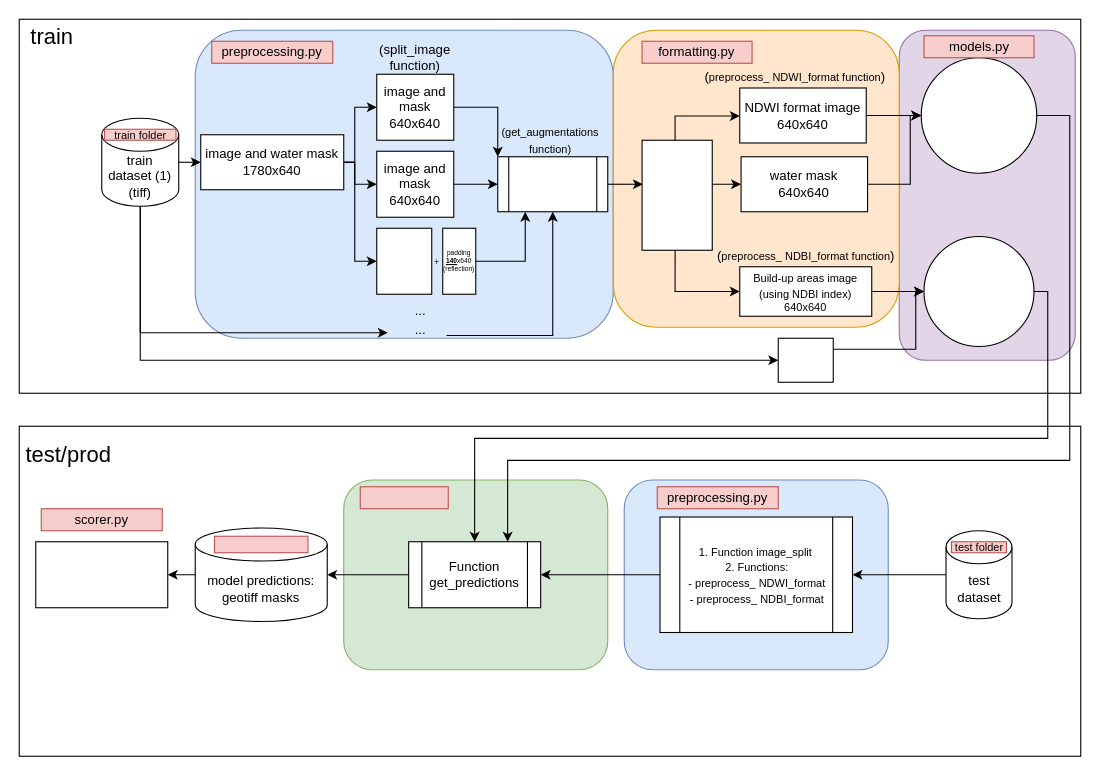
Image size: 1100x776. Some labels were removed from this diagram. Here are the shapes that lost their labels. From the top down, the centre of each, then its label:
At point (978, 115): "model for water segmentation (YOLO11l)".
At point (552, 184): "Augmentations: - rotation -reflection".
At point (676, 194): "images and masks 640x640 10 channels".
At point (404, 260): "image and mask 500 x640".
At point (978, 290): "model for buildings detection (YOLO11l)".
At point (805, 359): "geojson".
At point (403, 497): "predictions.py".
At point (260, 544): "results folder".
At point (101, 574): "F1 score (optional) output in console".
